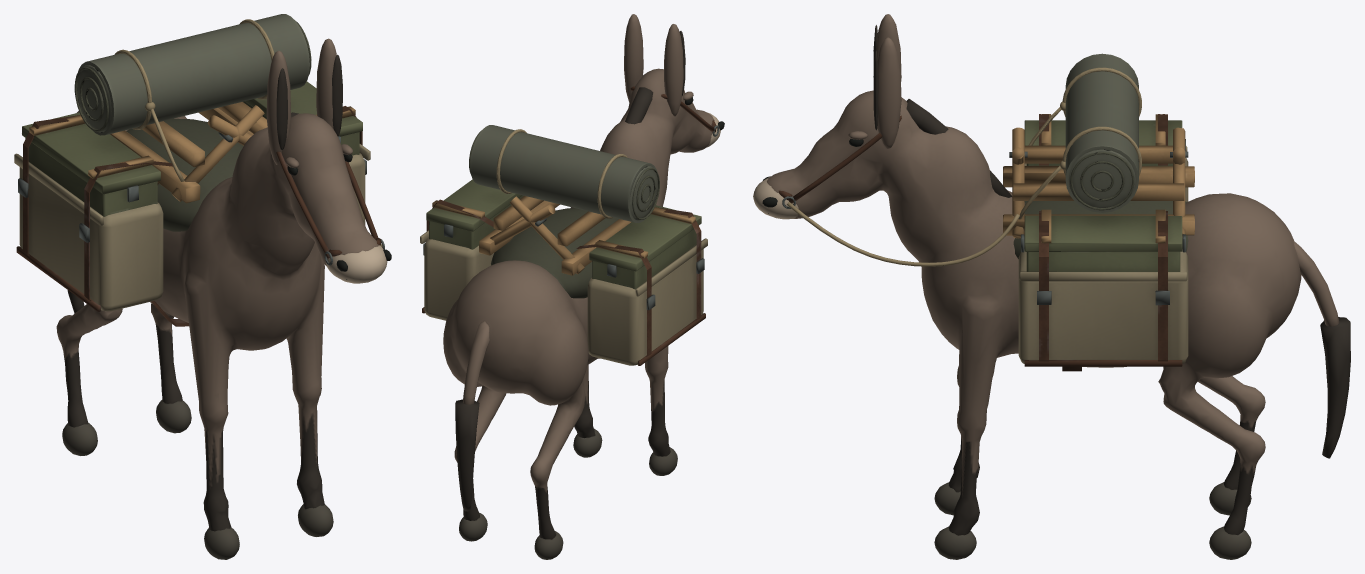
3 views of the same model, side by side, from view 1: azimuth 30°, elevation 25°; view 2: azimuth 150°, elevation 25°; view 3: azimuth 270°, elevation 25° (orthographic). The views are drawn at different scales.
Parts seen in each view (by area): view 1: Mule_anatomy, Lashed_tarpaulin_roll, Canvas_pannier_R, Padded_wooden_pack_saddle, Ammunition_box_R, Ammunition_box_L, Leather_halter_and_lead, Canvas_pannier_L; view 2: Mule_anatomy, Lashed_tarpaulin_roll, Canvas_pannier_R, Padded_wooden_pack_saddle, Ammunition_box_R, Canvas_pannier_L, Ammunition_box_L; view 3: Mule_anatomy, Canvas_pannier_L, Lashed_tarpaulin_roll, Padded_wooden_pack_saddle, Ammunition_box_L, Leather_halter_and_lead, Ammunition_box_R.
Boxes of the visible parts, x1,y1,x2,y2 form: Mule_anatomy: (56, 38, 391, 559); Lashed_tarpaulin_roll: (74, 14, 311, 135); Canvas_pannier_R: (14, 115, 172, 311); Padded_wooden_pack_saddle: (110, 102, 267, 326); Ammunition_box_R: (22, 112, 160, 216); Ammunition_box_L: (243, 81, 362, 155); Leather_halter_and_lead: (276, 151, 384, 265); Canvas_pannier_L: (317, 106, 370, 225); Mule_anatomy: (443, 14, 724, 559); Lashed_tarpaulin_roll: (469, 125, 659, 222); Canvas_pannier_R: (576, 207, 707, 365); Padded_wooden_pack_saddle: (479, 196, 630, 358); Ammunition_box_R: (589, 205, 701, 289); Canvas_pannier_L: (420, 199, 493, 320); Ammunition_box_L: (426, 179, 523, 249); Mule_anatomy: (753, 14, 1350, 559); Canvas_pannier_L: (1018, 211, 1188, 366); Lashed_tarpaulin_roll: (1060, 53, 1141, 212); Padded_wooden_pack_saddle: (1003, 107, 1194, 371); Ammunition_box_L: (1021, 209, 1185, 271); Leather_halter_and_lead: (779, 115, 1019, 266); Ammunition_box_R: (1024, 114, 1185, 166).
Bounding box in the file's own units: 1.35 × 2.42 × 2.57.
1 material, 1 textured.
